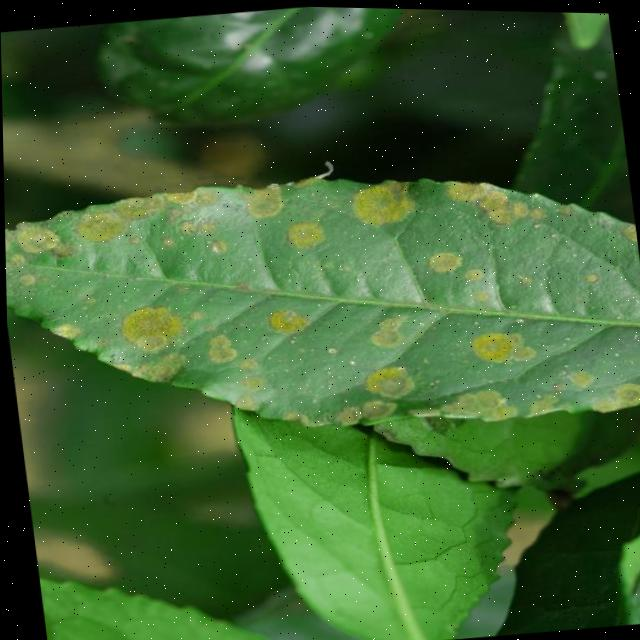Tea algae leaf spot: (13, 101, 564, 448)
